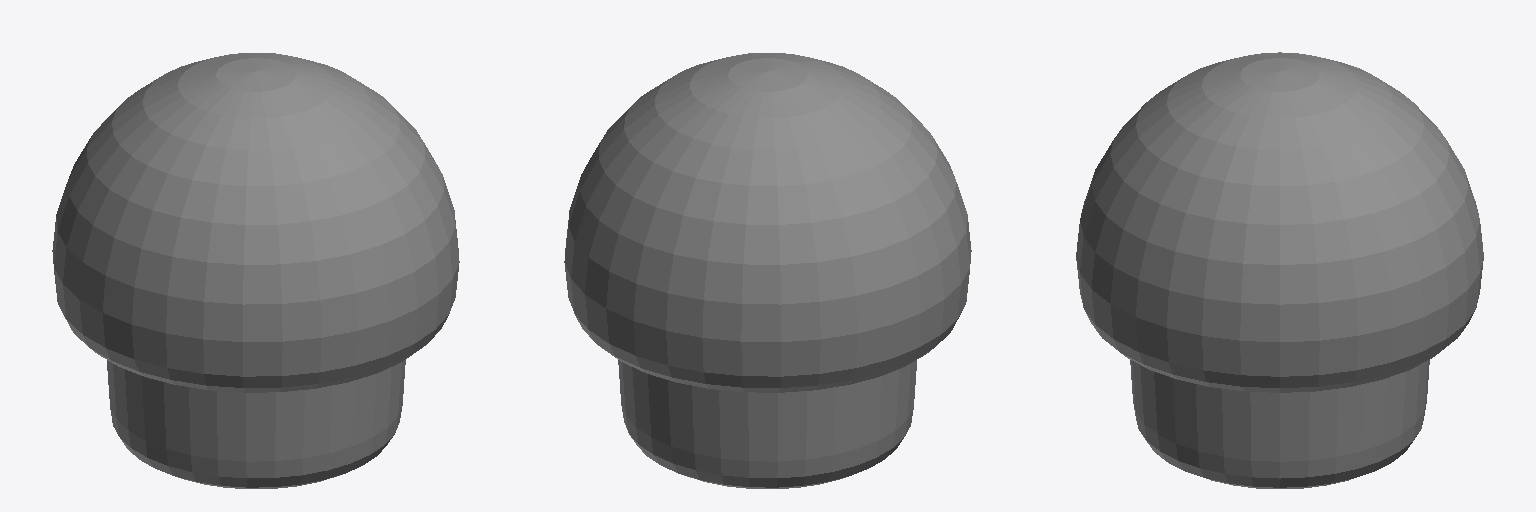
File: powerup.obj
The picture shows the model from 3 angles: view 1: azimuth 30°, elevation 25°; view 2: azimuth 150°, elevation 25°; view 3: azimuth 270°, elevation 25°; orthographic projection.
Visible parts, largest first — view 1: Sphere001_Mesh; view 2: Sphere001_Mesh; view 3: Sphere001_Mesh.
Boxes of the visible parts, x1=… form: Sphere001_Mesh: x1=52, y1=53, x2=459, y2=488; Sphere001_Mesh: x1=564, y1=53, x2=971, y2=488; Sphere001_Mesh: x1=1076, y1=52, x2=1483, y2=488.
Bounding box in the file's own units: 2.54 × 2.54 × 2.54.